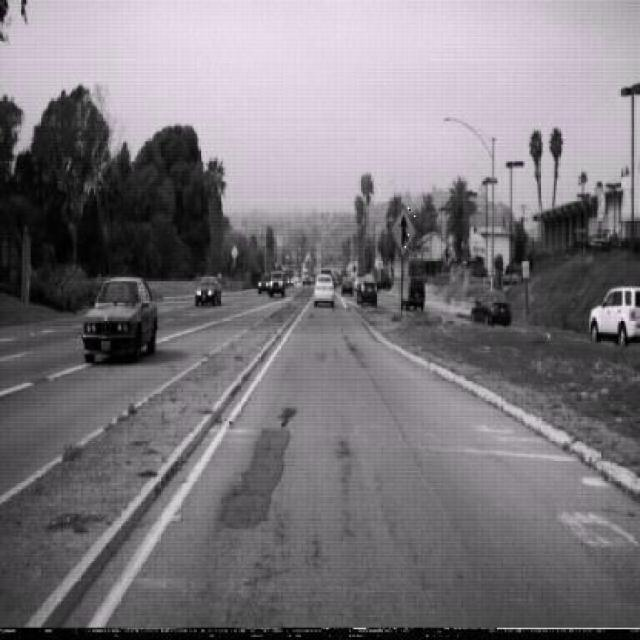merge: (390, 203, 418, 257)
